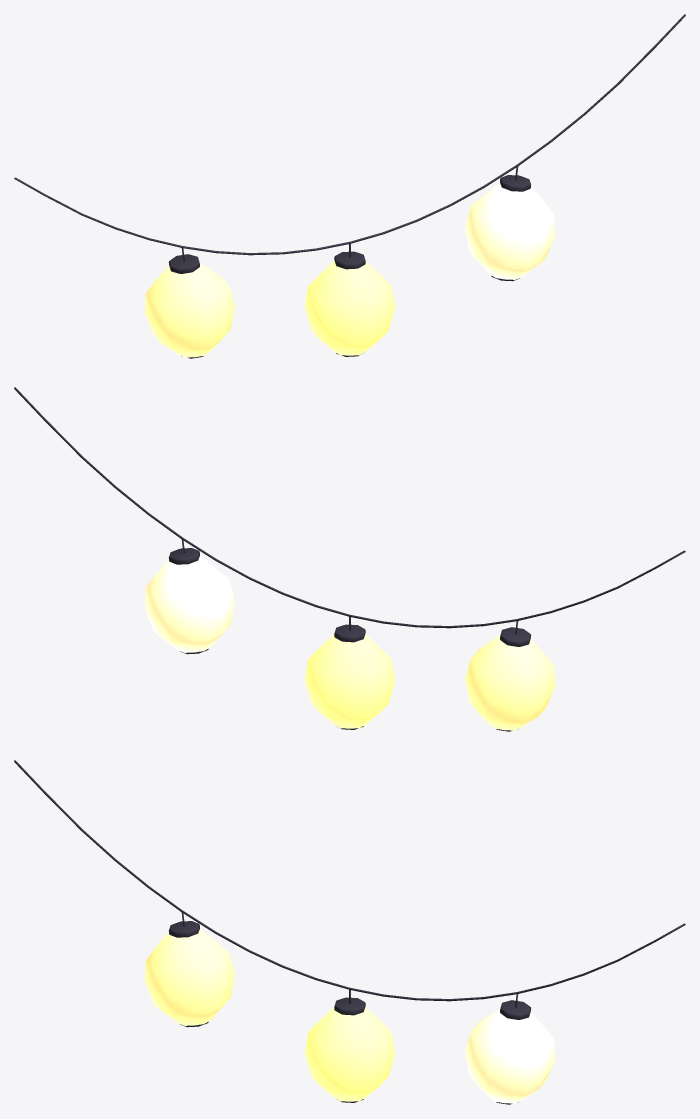
Rendered from paper_lanterns.glb.
The picture shows the model from 3 angles, top to bottom: view 1: azimuth 30°, elevation 25°; view 2: azimuth 150°, elevation 25°; view 3: azimuth 330°, elevation 25°; orthographic projection.
Parts seen in each view (by area): view 1: lantern_3, lantern_2, lantern_1, paper_lanterns; view 2: lantern_3, lantern_2, lantern_1, paper_lanterns; view 3: lantern_1, lantern_2, lantern_3, paper_lanterns.
Part boxes in pixels (bbox=[...]): lantern_3: bbox=[465, 166, 554, 281]; lantern_2: bbox=[305, 244, 394, 356]; lantern_1: bbox=[145, 248, 234, 358]; paper_lanterns: bbox=[14, 14, 685, 255]; lantern_3: bbox=[145, 539, 234, 654]; lantern_2: bbox=[305, 617, 394, 729]; lantern_1: bbox=[465, 621, 554, 731]; paper_lanterns: bbox=[14, 387, 685, 628]; lantern_1: bbox=[145, 912, 234, 1027]; lantern_2: bbox=[305, 989, 394, 1102]; lantern_3: bbox=[465, 994, 554, 1104]; paper_lanterns: bbox=[14, 760, 685, 1001].
Bounding box in the file's own units: 2.4 × 0.8732 × 0.28.
